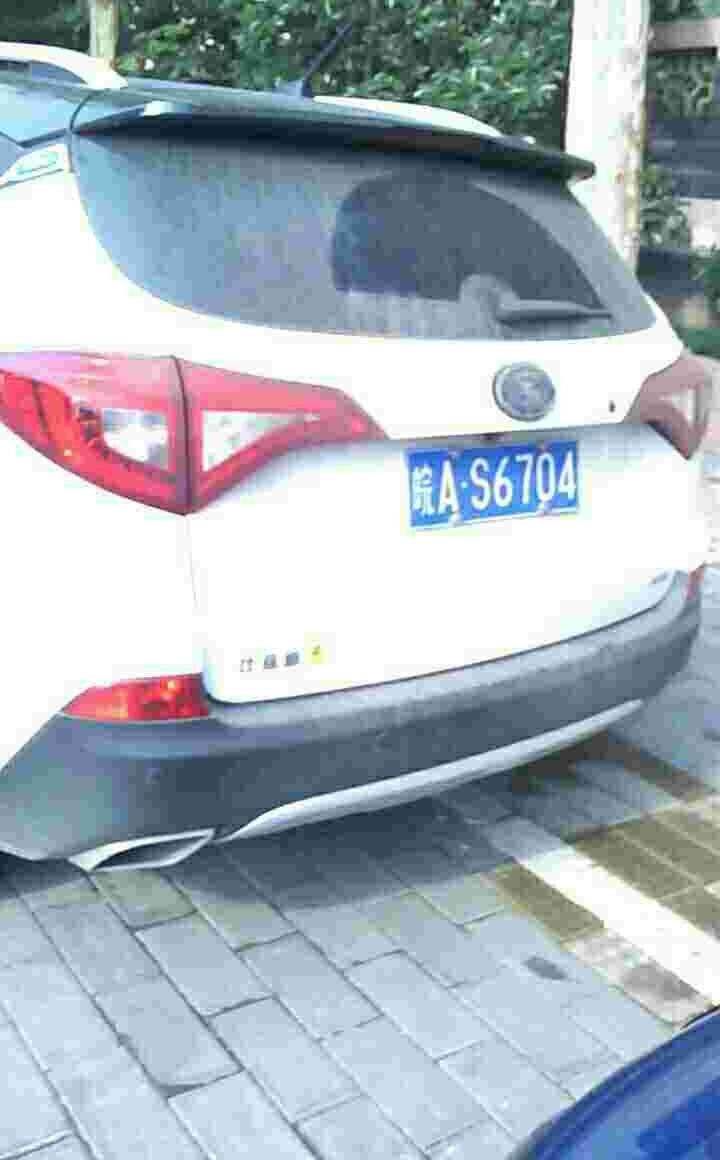license_plate: (406, 444, 577, 531)
